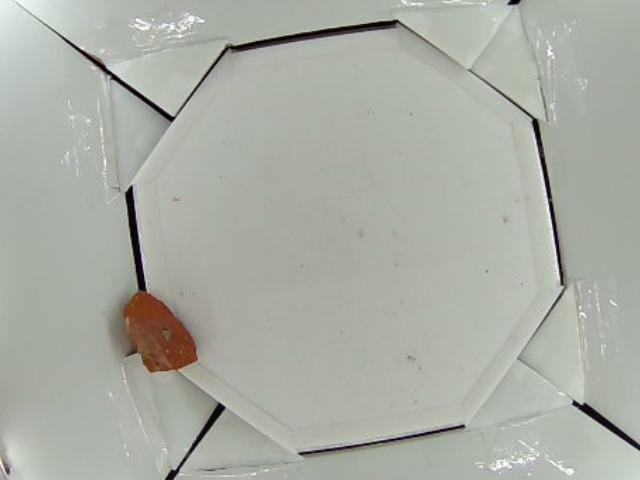Brisk: (128, 289, 198, 370)
